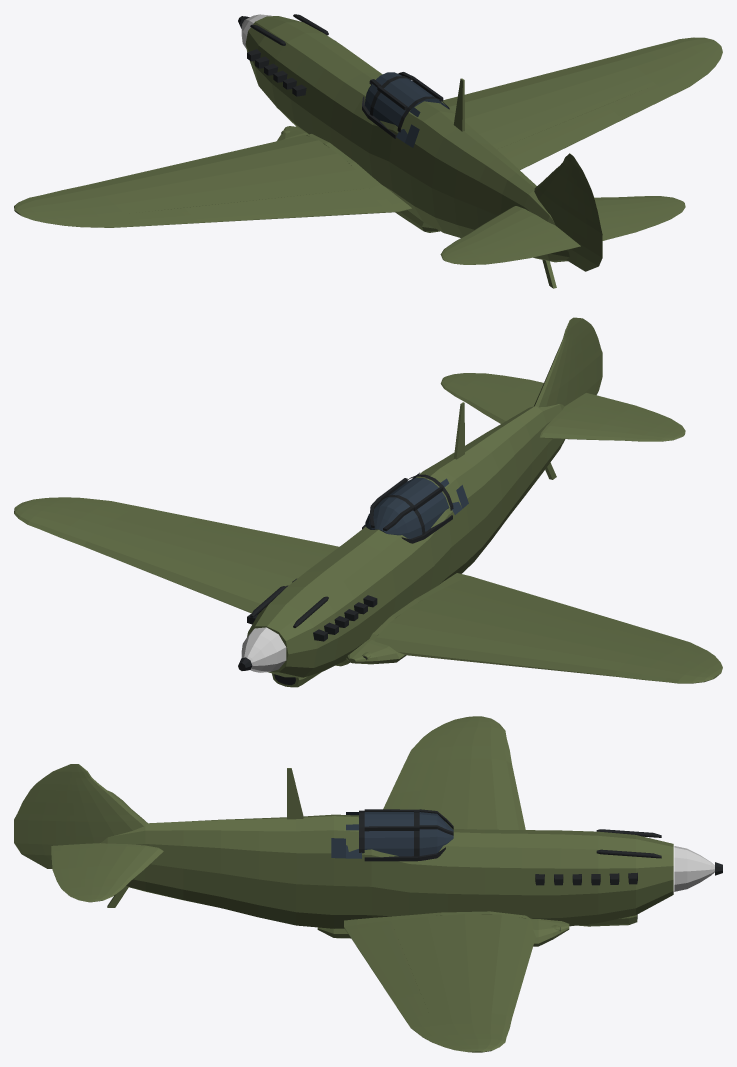
File: lagg3.glb
The picture shows the model from 3 angles, top to bottom: view 1: azimuth 30°, elevation 25°; view 2: azimuth 150°, elevation 25°; view 3: azimuth 270°, elevation 25°; orthographic projection.
Visible parts, largest first — view 1: Fuselage, Wing L, Wing R, Flap L, Flap R, Stabilizer L, Rudder, Elevator L, Vertical Fin, Cockpit Glass, Aileron R, Aileron L (+4 smaller); view 2: Fuselage, Wing L, Wing R, Stabilizer L, Cockpit Glass, Stabilizer R, Flap L, Vertical Fin, Flap R, Rudder, Spinner, Elevator L (+6 smaller); view 3: Fuselage, Wing R, Wing L, Rudder, Vertical Fin, Stabilizer R, Cockpit Glass, Flap R, Canopy Frame, Elevator R, Aileron L, Spinner (+7 smaller).
Part boxes in pixels (x1,y1,x2,y2): Fuselage: (245, 16, 569, 262); Wing L: (14, 134, 412, 223); Wing R: (441, 37, 722, 149); Flap L: (185, 188, 388, 222); Flap R: (497, 105, 622, 169); Stabilizer L: (440, 206, 559, 260); Rudder: (570, 156, 602, 271); Elevator L: (444, 229, 580, 264); Vertical Fin: (534, 153, 573, 263); Cockpit Glass: (365, 72, 440, 126); Aileron R: (613, 54, 718, 116); Aileron L: (44, 208, 192, 227); Fuselage: (247, 404, 565, 677); Wing L: (369, 573, 722, 683); Wing R: (14, 497, 323, 613); Stabilizer L: (540, 404, 683, 441); Cockpit Glass: (365, 477, 449, 539); Stabilizer R: (440, 377, 537, 423); Flap L: (455, 578, 621, 629); Vertical Fin: (534, 318, 577, 407); Flap R: (185, 519, 339, 557); Rudder: (573, 317, 602, 397); Spinner: (241, 627, 286, 672); Elevator L: (569, 393, 685, 435); Fuselage: (101, 814, 673, 928); Wing R: (344, 911, 535, 1052); Wing L: (390, 716, 525, 829); Rudder: (14, 764, 71, 868); Vertical Fin: (70, 764, 146, 844); Stabilizer R: (82, 843, 163, 902); Cockpit Glass: (364, 812, 453, 856); Flap R: (346, 924, 420, 996); Canopy Frame: (359, 809, 453, 861); Elevator R: (51, 843, 89, 902); Aileron L: (392, 724, 454, 790); Spinner: (674, 846, 714, 891).
Size of the model in its own units: 9.8 by 2.33 by 8.76.
